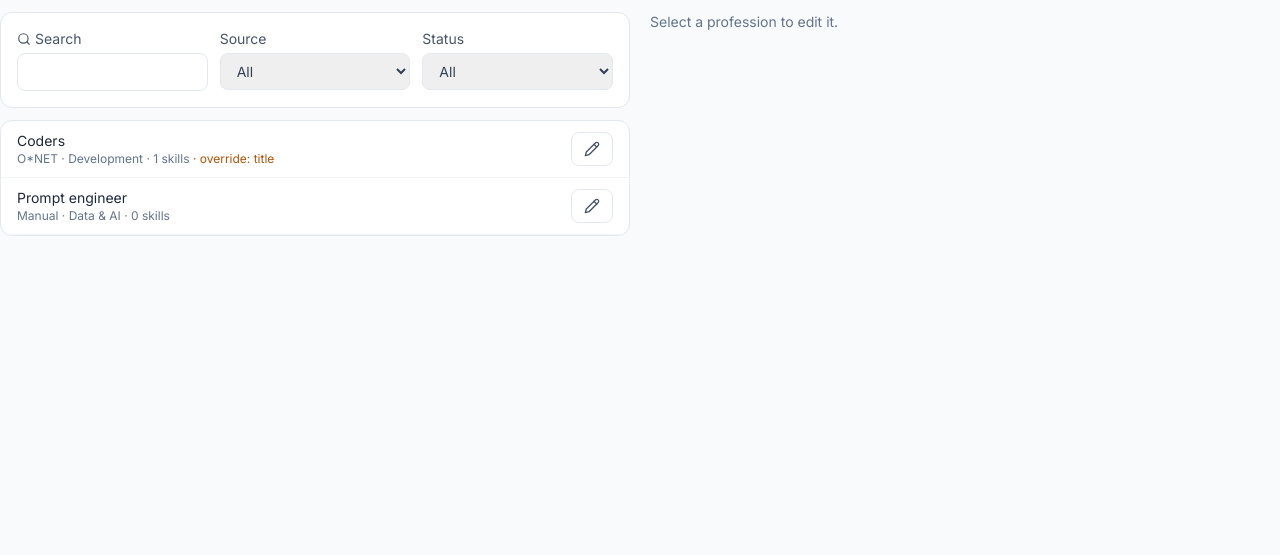
ProfessionsTab › every field and button is disabled while the lock is held
Click the button named "Edit Coders". click: (592, 149)
box: x1=571 y1=132 x2=613 y2=166
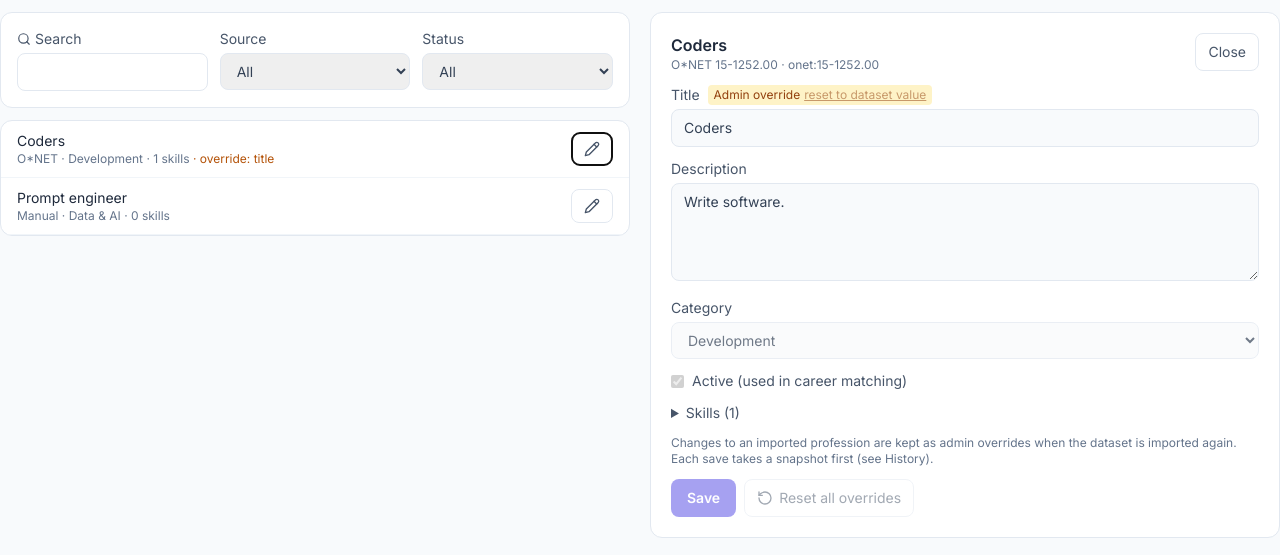
Expected: the field labelled "Title" is disabled, x1=671 y1=109 x2=1259 y2=147
Expected: the button "Save" is disabled, x1=671 y1=479 x2=736 y2=517
Expected: the button "reset to dataset value" is disabled, x1=804 y1=87 x2=926 y2=103
